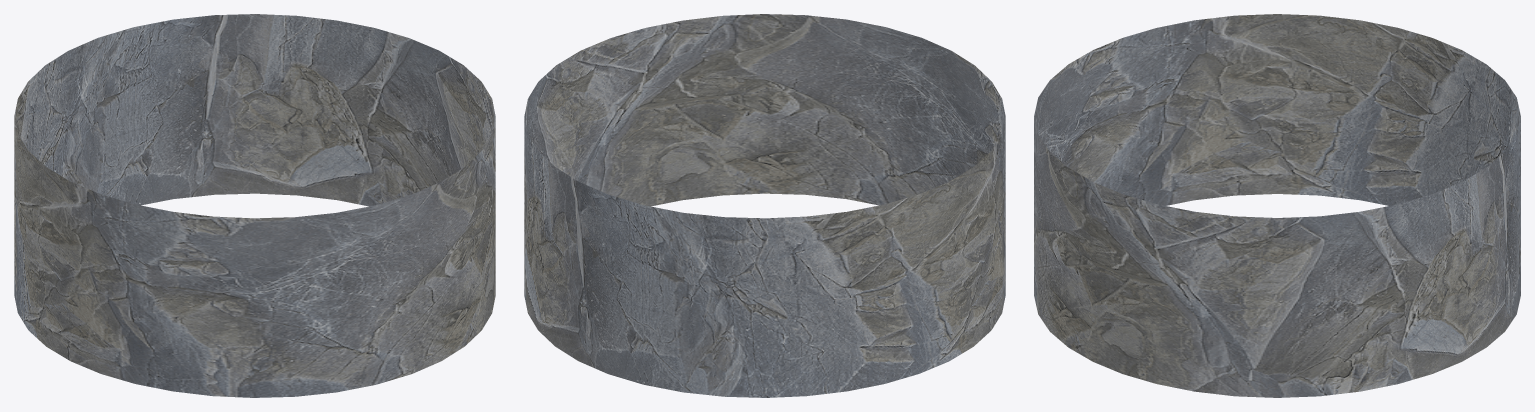
Rendered from suidao(3)_1.glb.
3 renders of one model, left to right at view 1: azimuth 30°, elevation 25°; view 2: azimuth 150°, elevation 25°; view 3: azimuth 270°, elevation 25°, orthographic.
Parts seen in each view (by area): view 1: XSBYSZK_01; view 2: XSBYSZK_01; view 3: XSBYSZK_01.
Part boxes in pixels (left/top/right/bottom): XSBYSZK_01: left=14, top=14, right=495, bottom=397; XSBYSZK_01: left=524, top=14, right=1005, bottom=397; XSBYSZK_01: left=1034, top=14, right=1520, bottom=397.
Bounding box in the file's own units: 7.54 × 3.1 × 7.6.
Materials: 1 (1 with a texture image).
